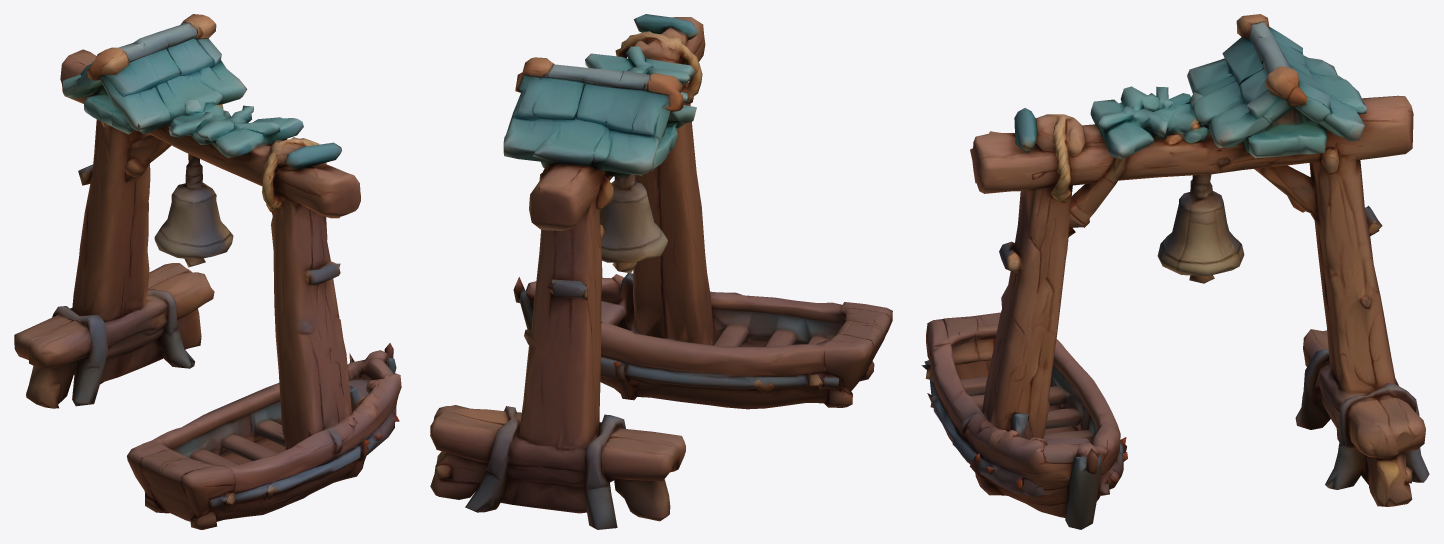
File: sky-bell-frame.glb
The picture shows the model from 3 angles, left to right: view 1: azimuth 30°, elevation 25°; view 2: azimuth 150°, elevation 25°; view 3: azimuth 270°, elevation 25°; orthographic projection. The views are drawn at different scales.
Parts seen in each view (by area): view 1: tripo_node_19e601e2-b113-482b-aa36-80a40d08d7cb; view 2: tripo_node_19e601e2-b113-482b-aa36-80a40d08d7cb; view 3: tripo_node_19e601e2-b113-482b-aa36-80a40d08d7cb.
Part boxes in pixels (x1,y1,x2,y2): tripo_node_19e601e2-b113-482b-aa36-80a40d08d7cb: (14, 14, 401, 529); tripo_node_19e601e2-b113-482b-aa36-80a40d08d7cb: (430, 14, 892, 529); tripo_node_19e601e2-b113-482b-aa36-80a40d08d7cb: (921, 14, 1429, 529).
Bounding box in the file's own units: 4.14 × 5 × 5.58.
Materials: 1 (1 with a texture image).
